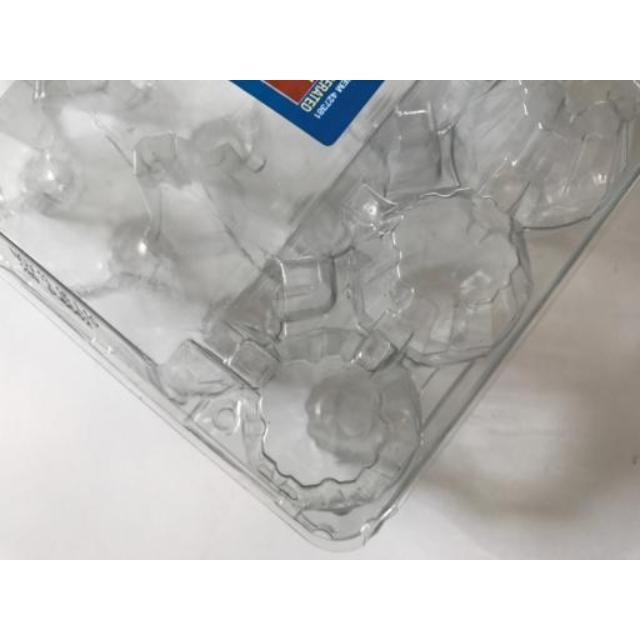plastic: (0, 80, 639, 549)
